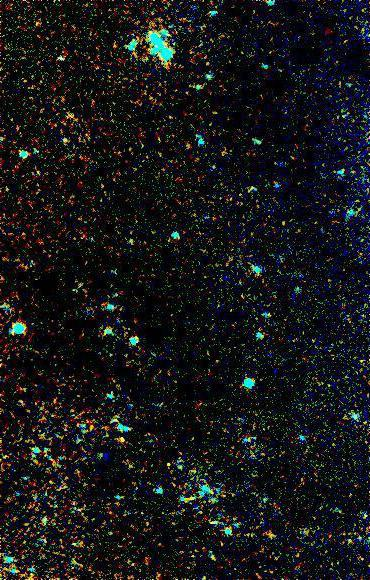star: (109, 425, 139, 455)
